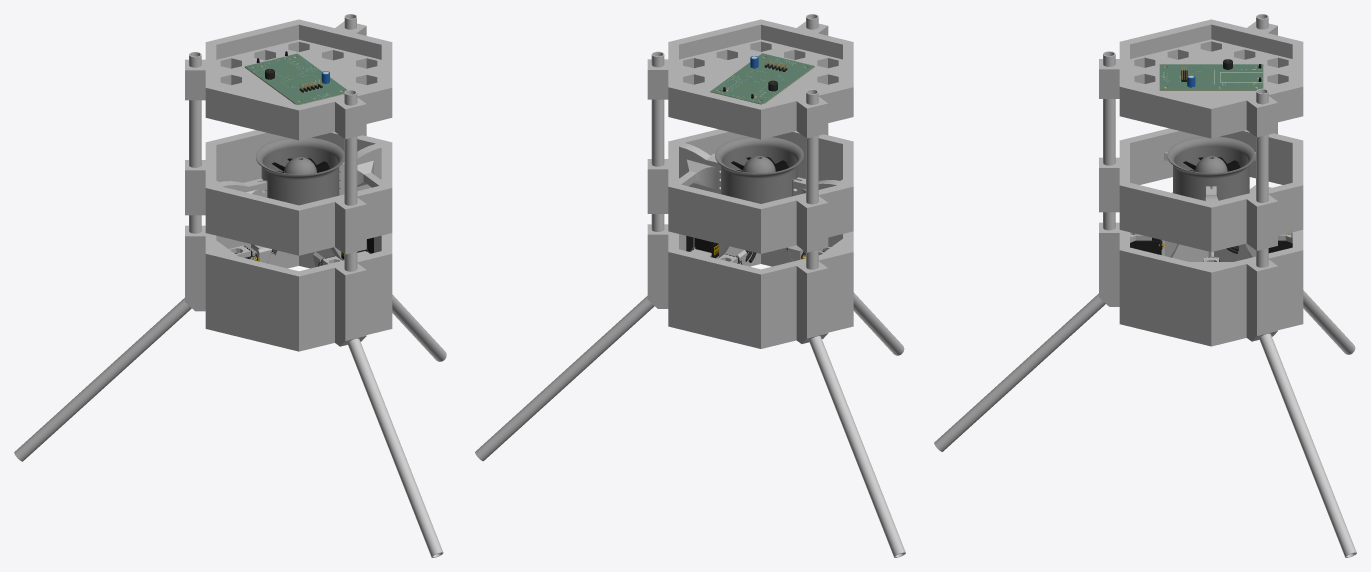
The model's file is EDFAsembly.obj.
The picture shows the model from 3 angles, left to right: view 1: azimuth 30°, elevation 25°; view 2: azimuth 150°, elevation 25°; view 3: azimuth 270°, elevation 25°; orthographic projection.
Parts seen in each view (by area): view 1: Solid1:14, Solid1:13, Solid1:7, Solid1, Solid1:12, Solid1:1, Solid1:2, Srf1:4, Solid51, Solid1:5, Solid1:4, Solid1:3; view 2: Solid1:14, Solid1:13, Solid1:7, Solid1, Solid1:12, Solid1:2, Solid1:3, Srf1:4, Solid51, Solid1:6, Solid1:4, Solid1:1; view 3: Solid1:14, Solid1:13, Solid1:7, Solid1, Solid1:12, Solid1:3, Solid1:1, Srf1:4, Solid51, Solid1:6, Solid1:5, Solid1:2.
Part boxes in pixels (x1=…): Solid1:14: x1=185, y1=19, x2=392, y2=140; Solid1:13: x1=185, y1=130, x2=392, y2=255; Solid1:7: x1=185, y1=225, x2=392, y2=321; Solid1: x1=185, y1=247, x2=392, y2=351; Solid1:12: x1=256, y1=137, x2=344, y2=205; Solid1:1: x1=347, y1=338, x2=443, y2=557; Solid1:2: x1=14, y1=298, x2=191, y2=461; Srf1:4: x1=245, y1=53, x2=347, y2=104; Solid51: x1=244, y1=54, x2=345, y2=104; Solid1:5: x1=344, y1=90, x2=357, y2=271; Solid1:4: x1=189, y1=52, x2=201, y2=233; Solid1:3: x1=392, y1=294, x2=446, y2=361; Solid1:14: x1=647, y1=19, x2=853, y2=139; Solid1:13: x1=647, y1=129, x2=853, y2=253; Solid1:7: x1=647, y1=224, x2=853, y2=319; Solid1: x1=647, y1=246, x2=853, y2=348; Solid1:12: x1=715, y1=137, x2=803, y2=203; Solid1:2: x1=809, y1=336, x2=905, y2=557; Solid1:3: x1=475, y1=296, x2=654, y2=461; Srf1:4: x1=710, y1=53, x2=814, y2=103; Solid51: x1=710, y1=54, x2=814, y2=104; Solid1:6: x1=651, y1=51, x2=664, y2=231; Solid1:4: x1=806, y1=89, x2=818, y2=269; Solid1:1: x1=853, y1=292, x2=904, y2=355; Solid1:14: x1=1099, y1=19, x2=1303, y2=138; Solid1:13: x1=1099, y1=128, x2=1303, y2=251; Solid1:7: x1=1099, y1=185, x2=1303, y2=316; Solid1: x1=1099, y1=244, x2=1303, y2=346; Solid1:12: x1=1167, y1=136, x2=1255, y2=200; Solid1:3: x1=1259, y1=333, x2=1356, y2=557; Solid1:1: x1=934, y1=293, x2=1105, y2=451; Srf1:4: x1=1159, y1=64, x2=1263, y2=89; Solid51: x1=1159, y1=65, x2=1262, y2=90; Solid1:6: x1=1256, y1=88, x2=1268, y2=267; Solid1:5: x1=1103, y1=51, x2=1115, y2=230; Solid1:2: x1=1303, y1=290, x2=1355, y2=354.
Bounding box in the file's own units: 23.67 × 21.45 × 20.39.
